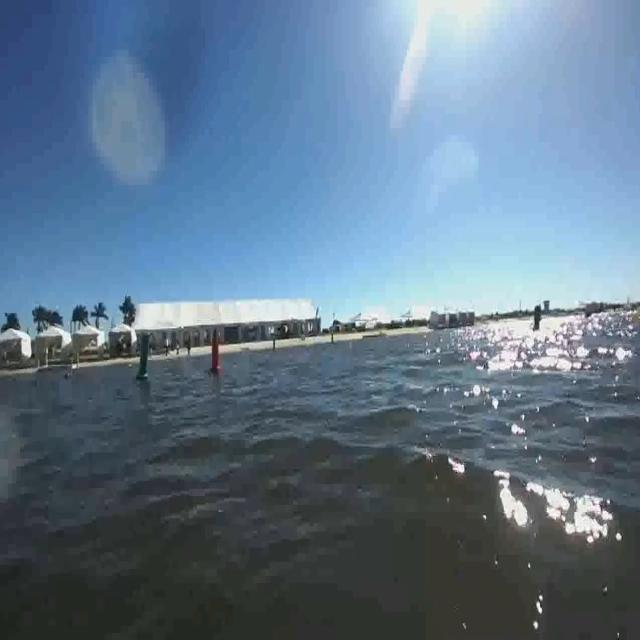green-column-buoy: (136, 332, 153, 381)
red-column-buoy: (209, 332, 223, 374)
